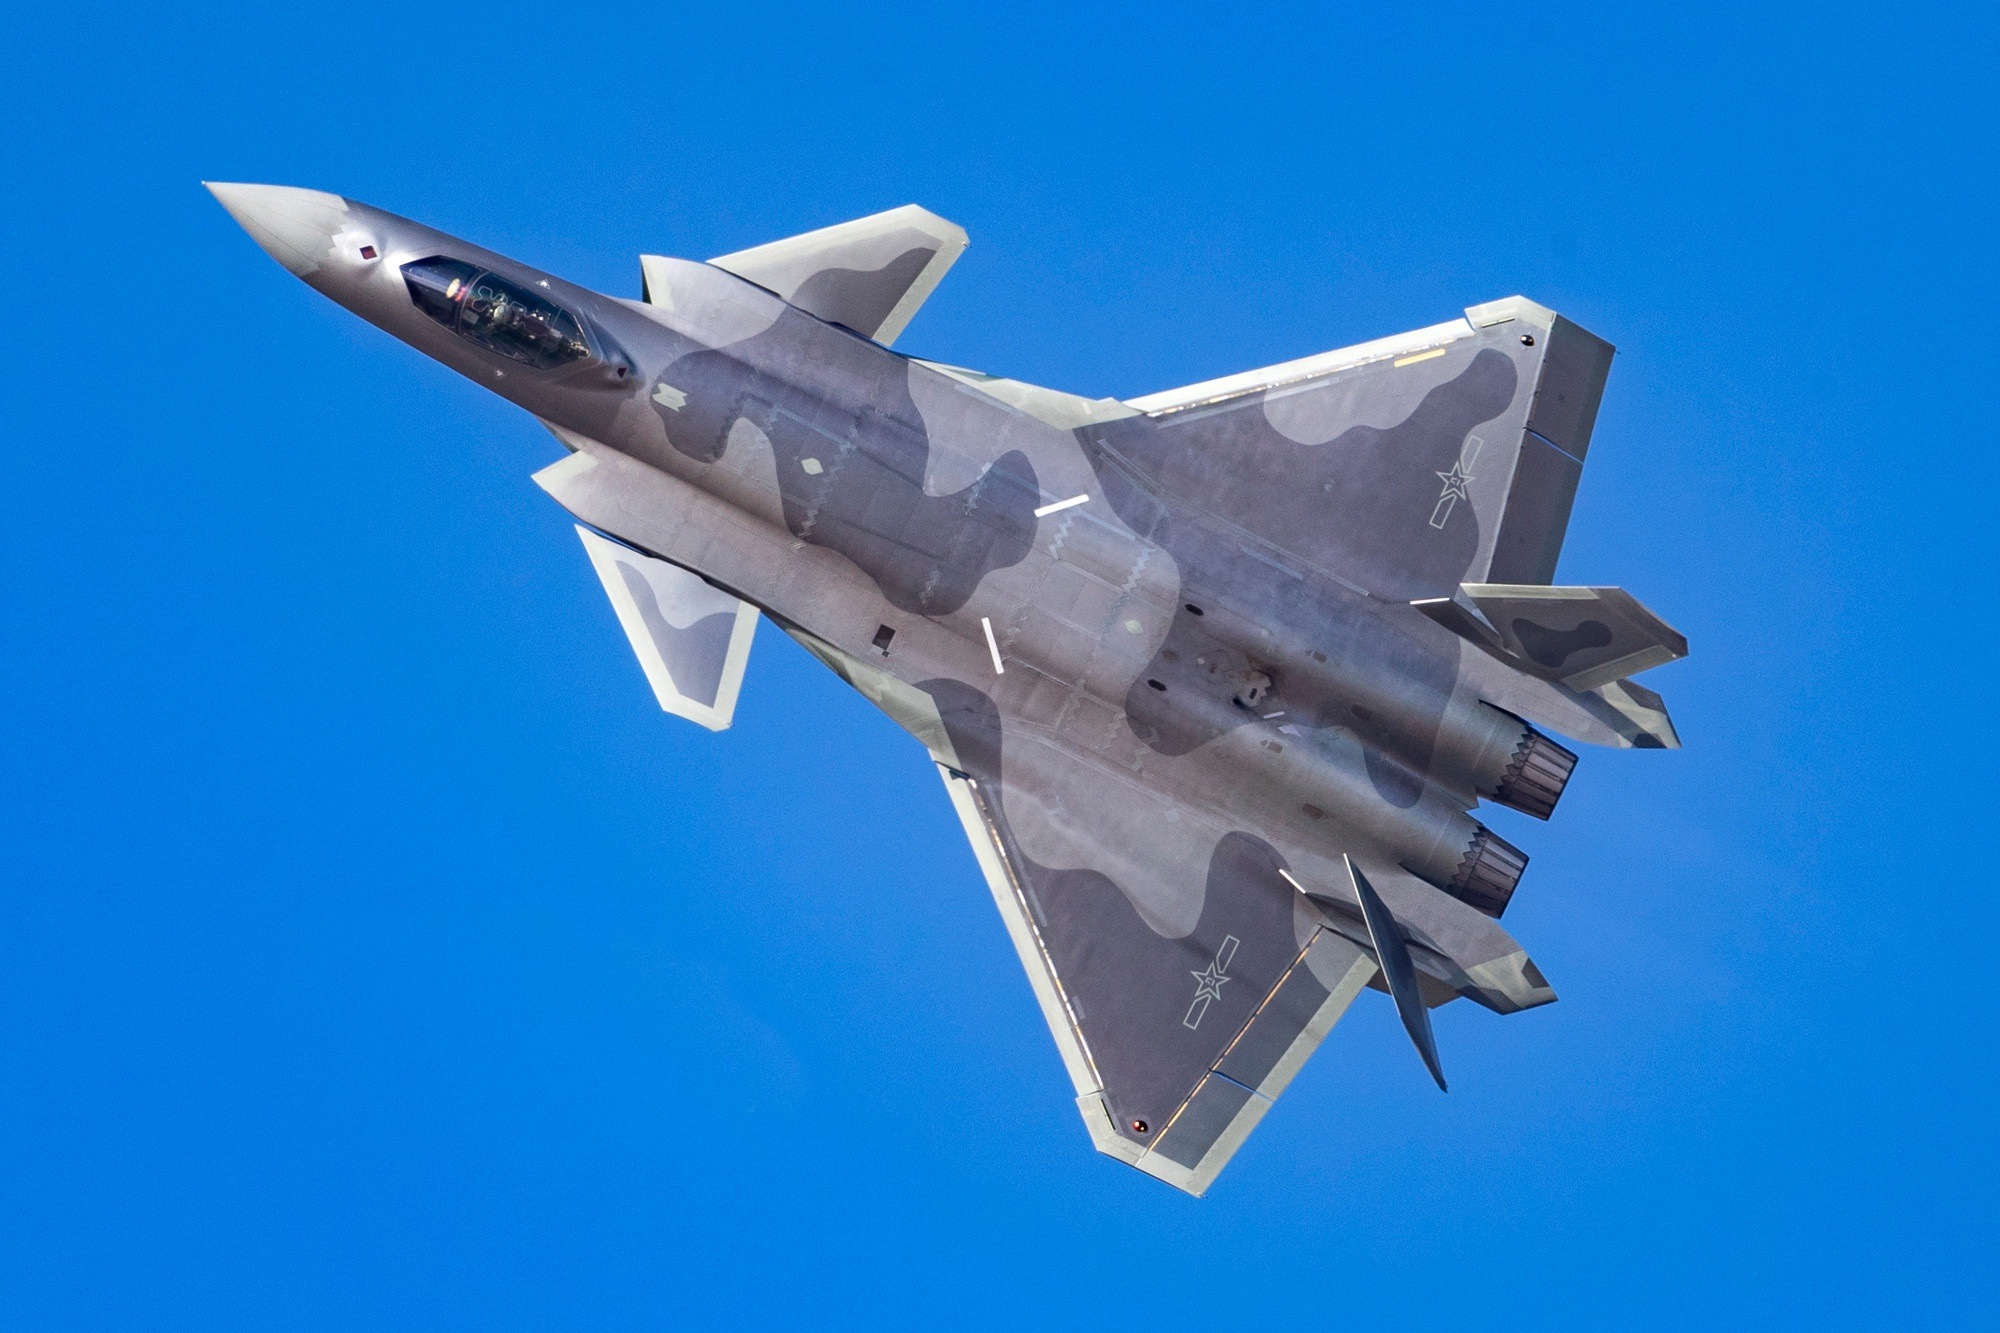J20: (199, 179, 1691, 1201)
